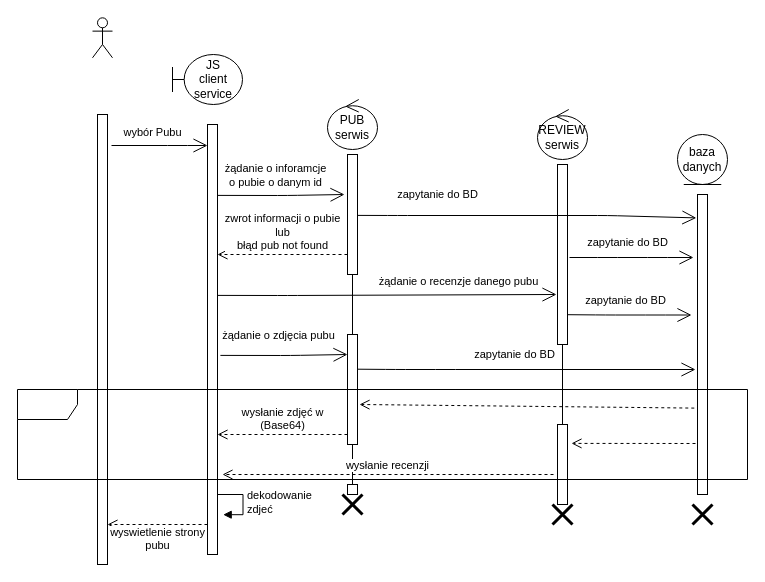
Some shapes in this 765 by 582 pixel diagram are drawn without their labels. The shapes that lost their labels are listed below. From the top down, each one's box as (x1, y1, x2, y2) in pixels, then its label:
(92, 17, 112, 58): authorized mobile client
(16, 388, 748, 480): parrarel
